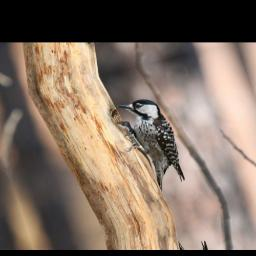Woodpecker: (110, 93, 190, 195)
